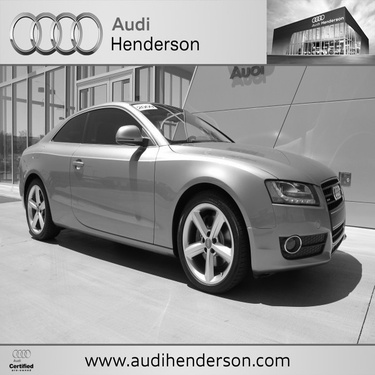car: (23, 96, 357, 295)
